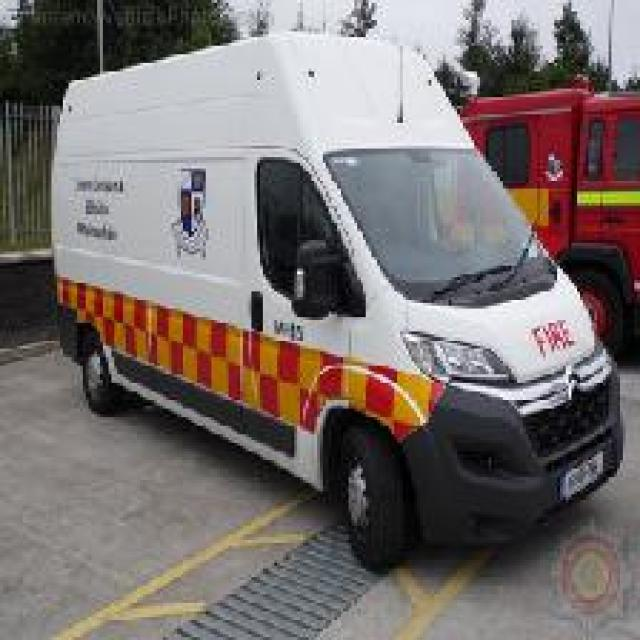Fire-truck: (46, 29, 623, 572), (454, 74, 637, 357)
